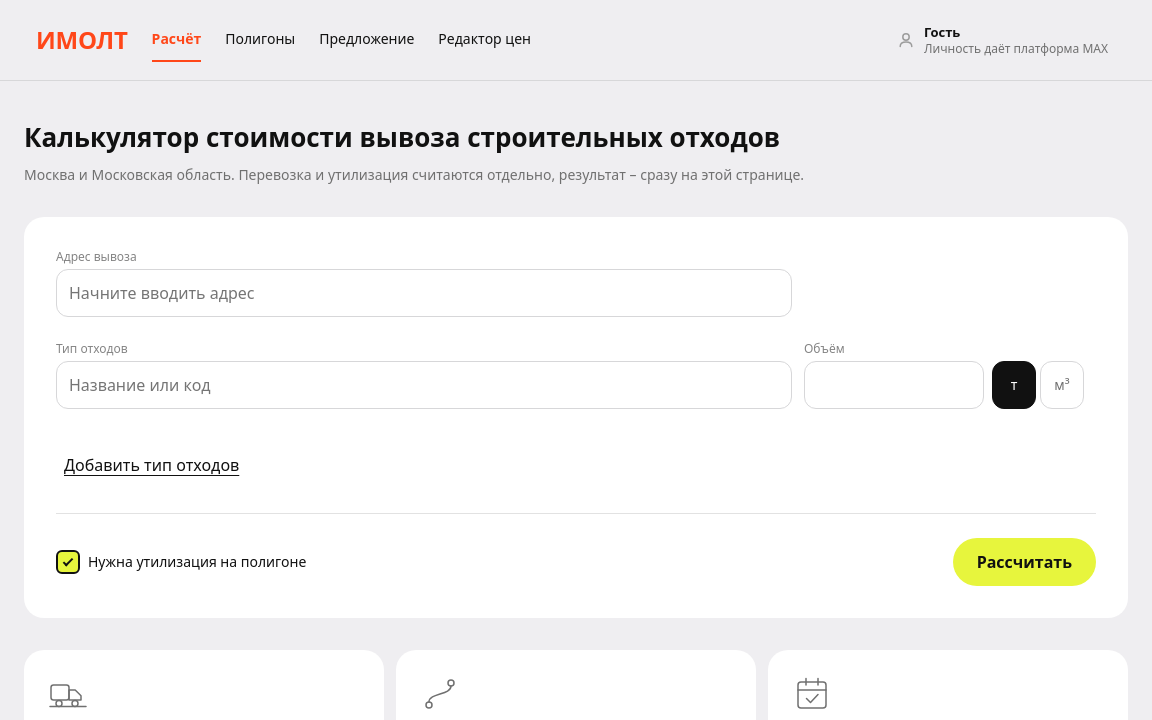
it: сравнение полигонов на широком экране › называет перевозку, утилизацию и итог отдельными столбцами
This screenshot has width=1152, height=720.
Type "Годовикова" into the dropdown labelled "Адрес вывоза" at [424, 293], box [56,269,792,317]
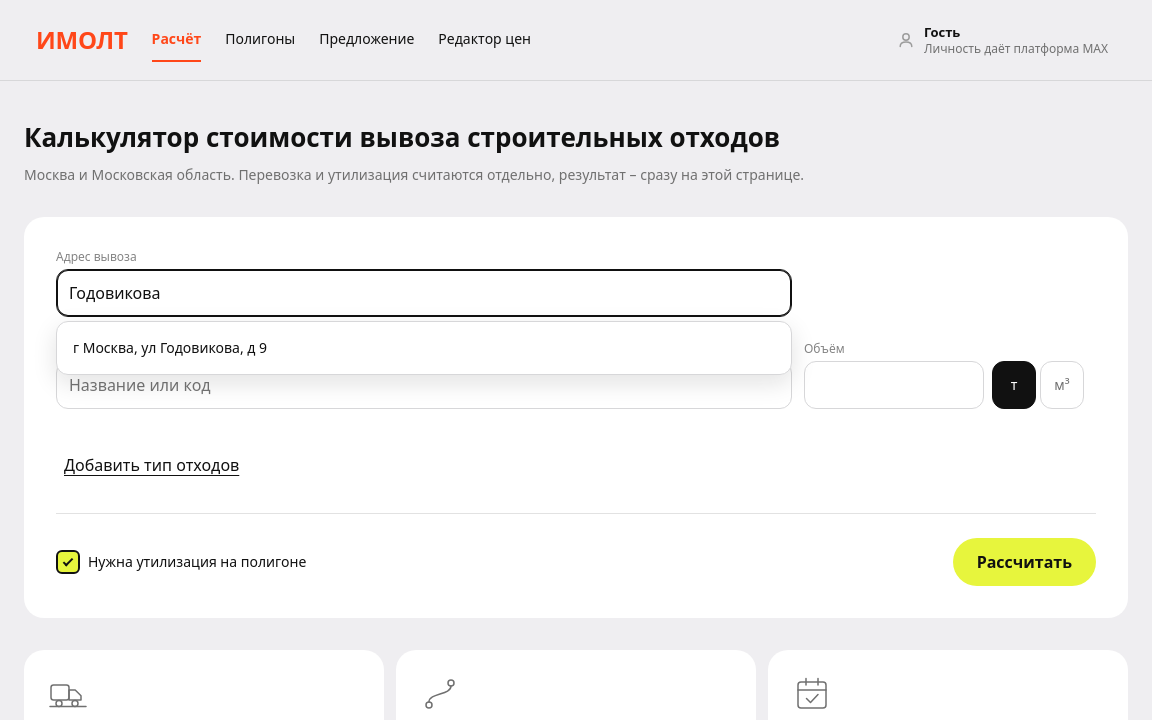
Click the option "г Москва, ул Годовикова, д 9" at [170, 348], box [73,338,267,357]
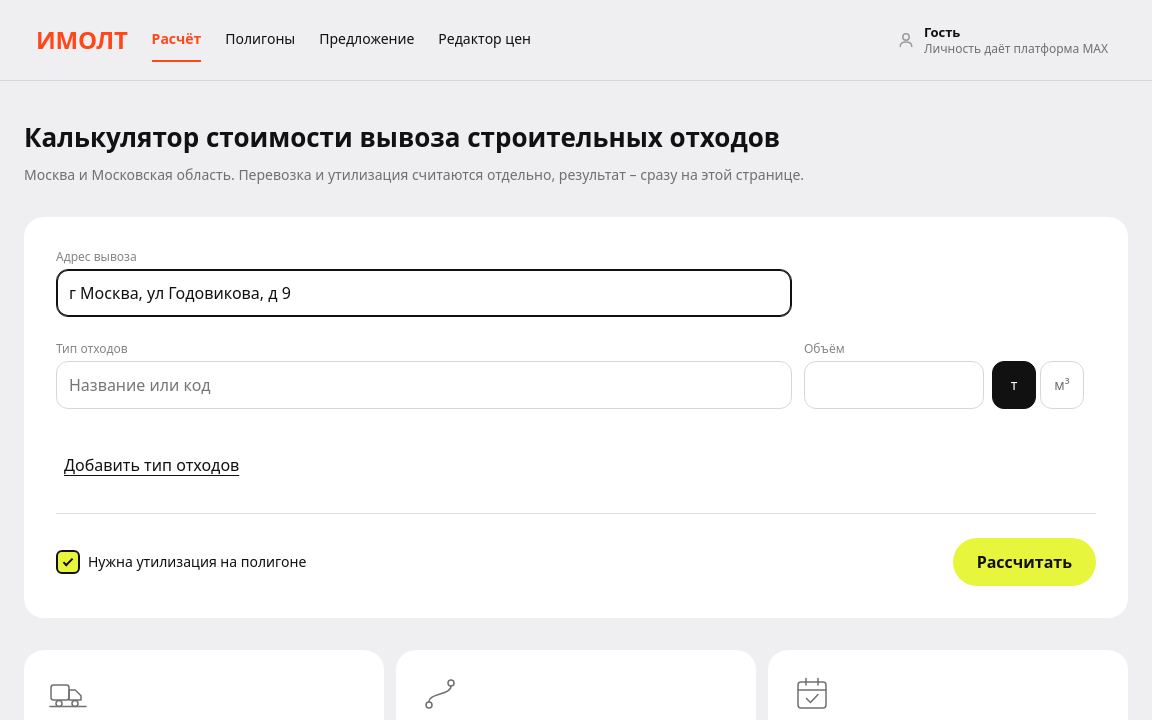
Type "лом" into the dropdown labelled "Тип отходов" at [424, 385], box [56,361,792,409]
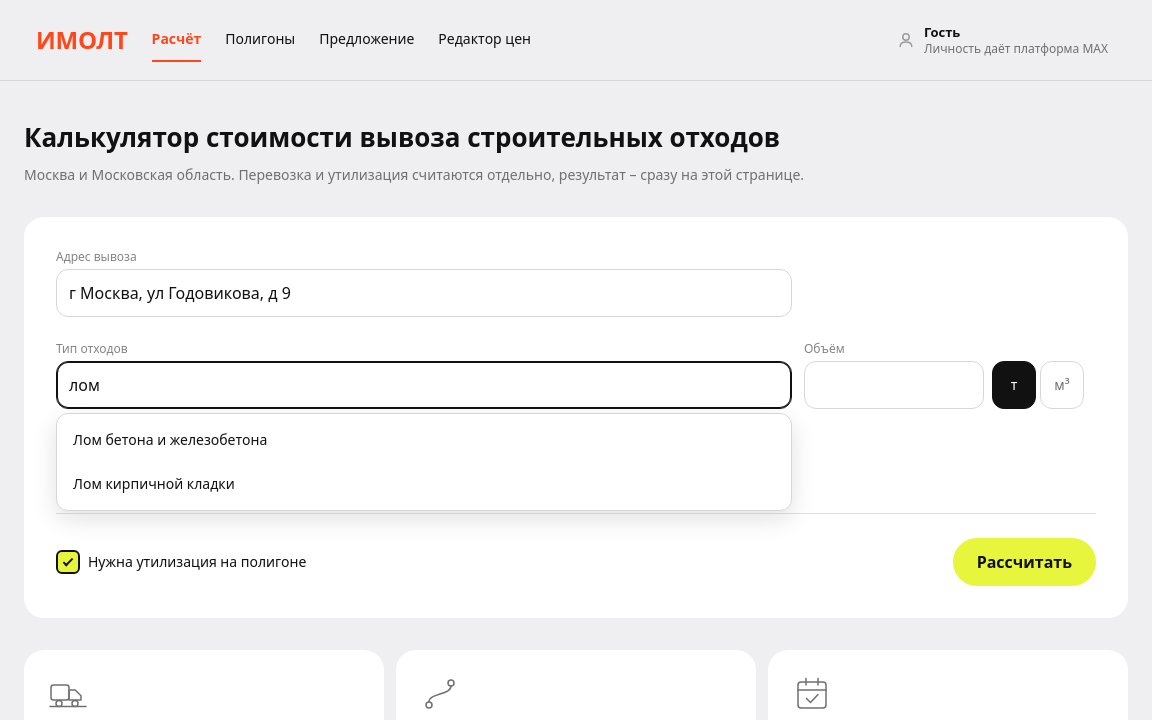
Click the option "Лом бетона и железобетона" at [170, 440], box [73,430,267,449]
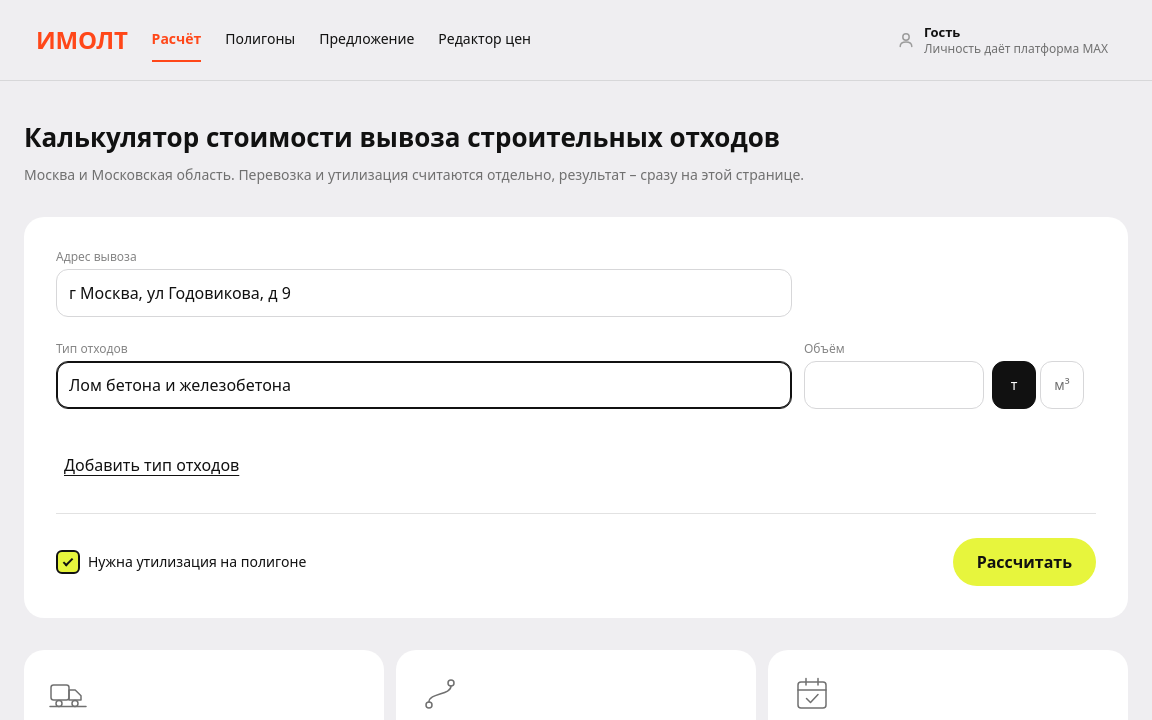
Type "20" into the field labelled "Объём" at [894, 385], box [804,361,984,409]
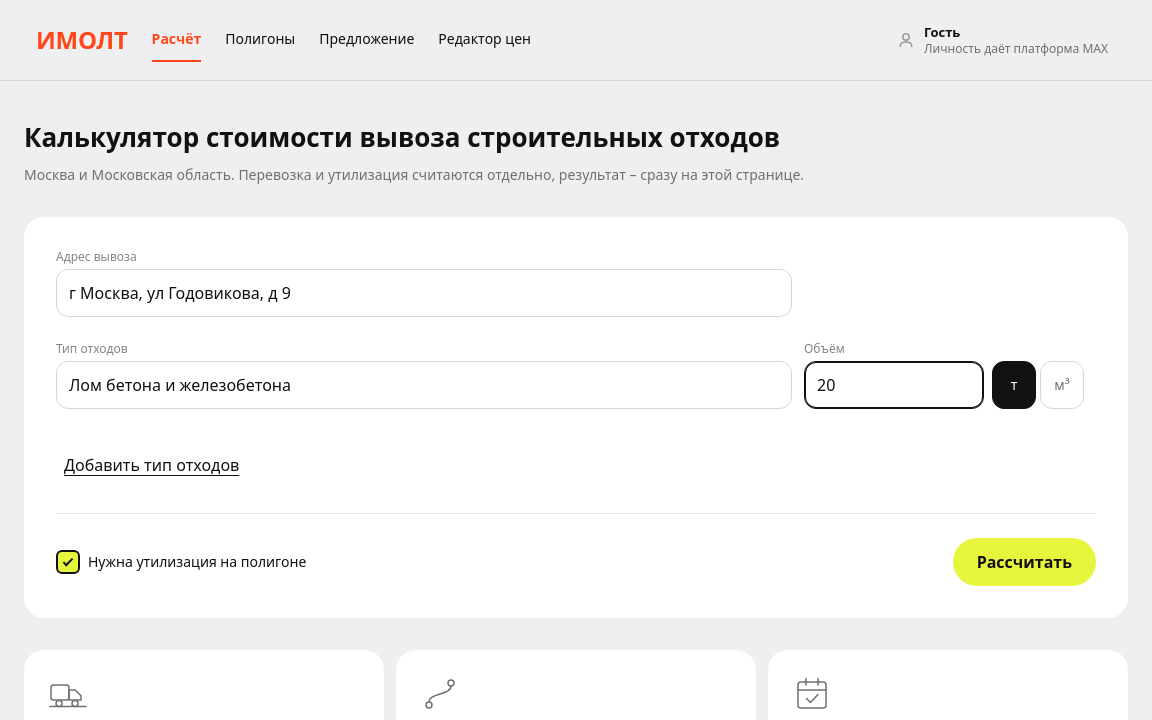
Click the button "Рассчитать" at [1024, 562], box [953,538,1096,586]
(page scrolled)
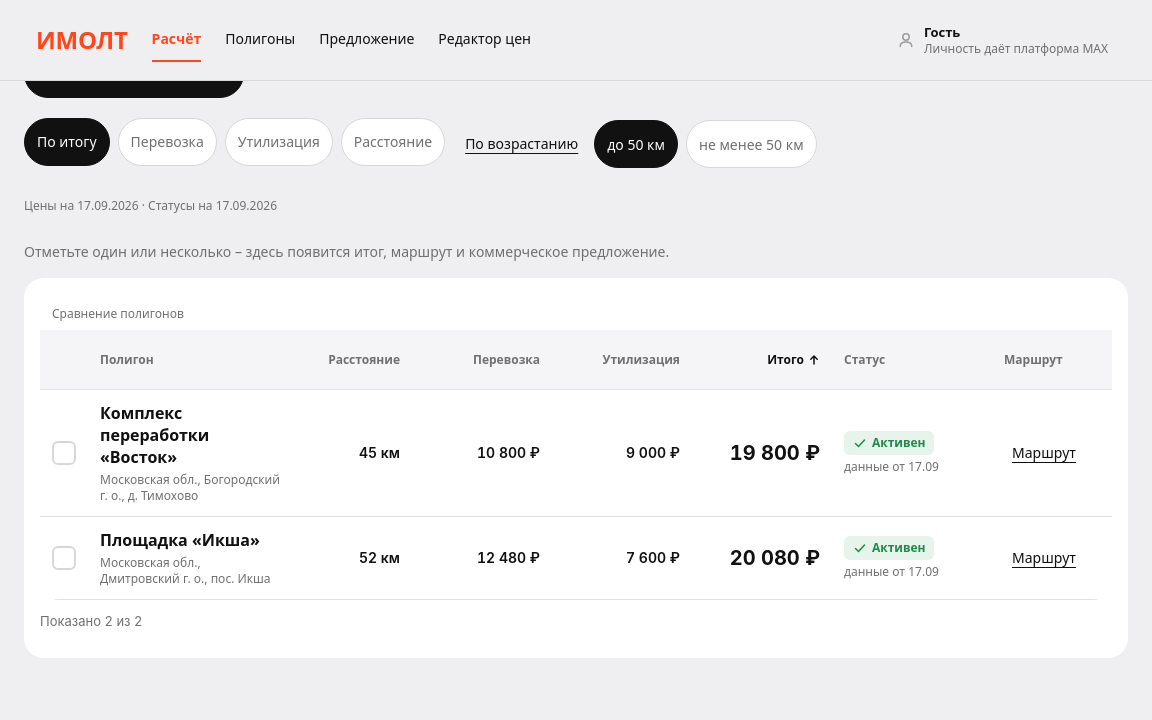
Now the element "Результаты" is shown
Now the column heading "Перевозка" is shown, box [412,330,552,390]
Now the column heading "Утилизация" is shown, box [552,330,692,390]
